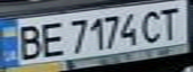1: (87, 13, 109, 51)
4: (118, 10, 145, 46)
7: (66, 16, 90, 54), (103, 12, 124, 48)
B: (9, 21, 45, 61)
C: (139, 7, 169, 43)
E: (36, 19, 66, 58)
T: (154, 3, 187, 41)
